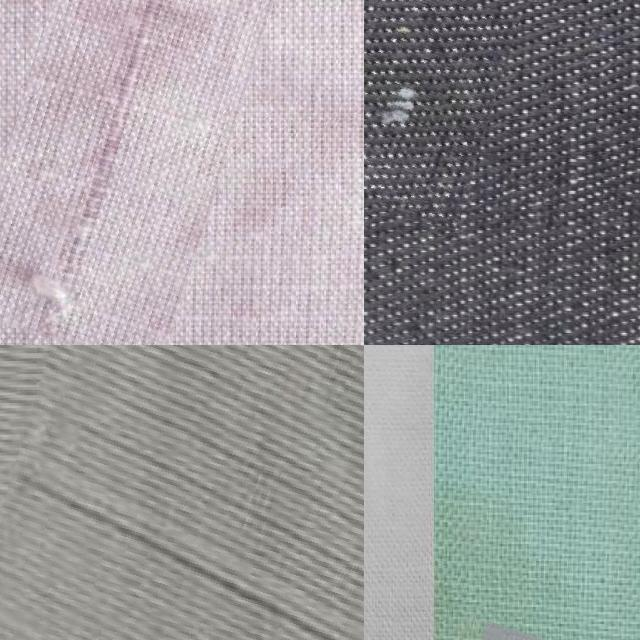stains: (0, 345, 364, 640), (364, 0, 505, 223)
